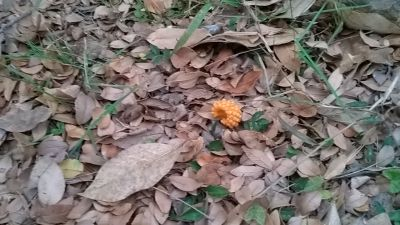eggs: (211, 97, 241, 128)
